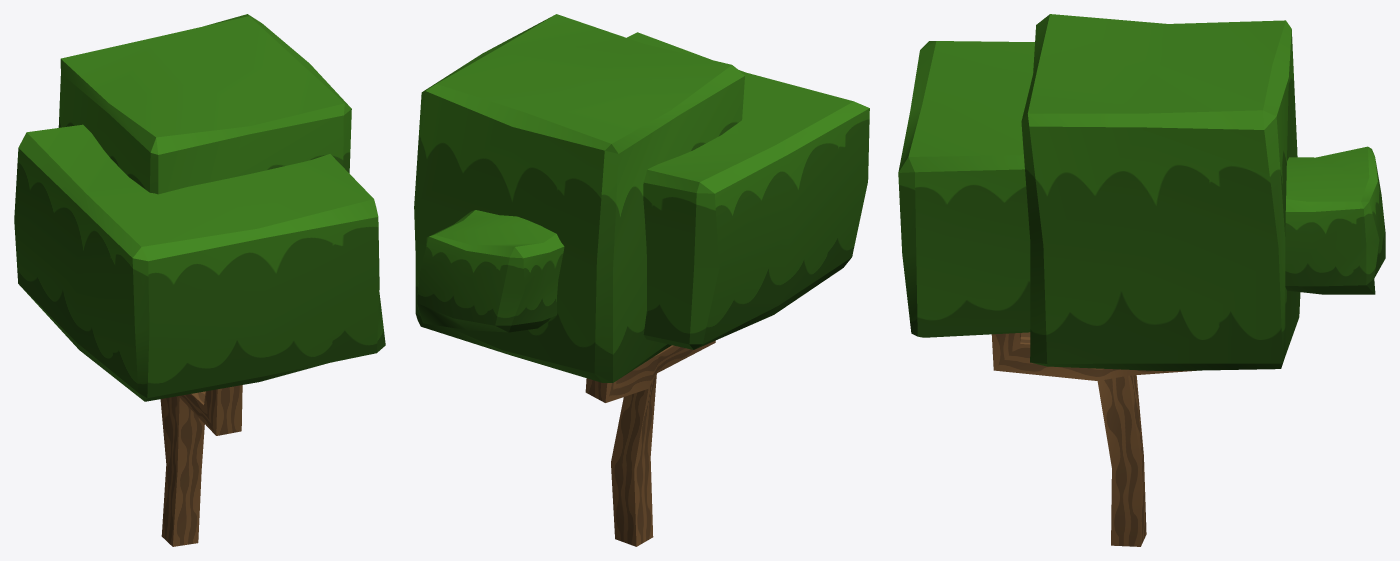
The model's file is tree.FBX.
3 renders of one model, left to right at view 1: azimuth 30°, elevation 25°; view 2: azimuth 150°, elevation 25°; view 3: azimuth 270°, elevation 25°, orthographic. The views are drawn at different scales.
Parts seen in each view (by area): view 1: tree; view 2: tree; view 3: tree.
Part boxes in pixels (x1,y1,x2,y2): tree: (14,14,385,546); tree: (414,14,869,546); tree: (898,14,1385,546).
Bounding box in the file's own units: 2.65 × 3.57 × 4.04.
2 materials, 2 textured.
